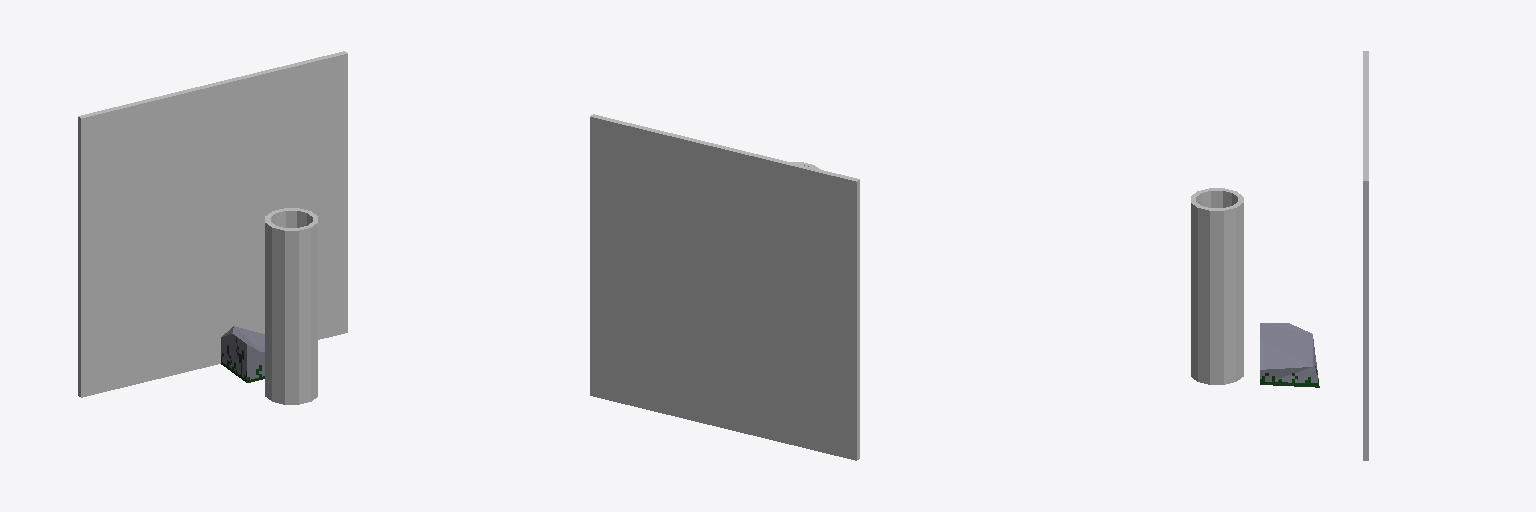
3 views of the same model, side by side, from view 1: azimuth 30°, elevation 25°; view 2: azimuth 150°, elevation 25°; view 3: azimuth 270°, elevation 25° (orthographic).
Parts seen in each view (by area): view 1: cube, tube, cuboid; view 2: cube; view 3: tube, cuboid, cube.
Part boxes in pixels (left/top/right/bottom): cube: left=78, top=51, right=347, bottom=397; tube: left=265, top=208, right=317, bottom=404; cuboid: left=221, top=326, right=264, bottom=382; cube: left=590, top=114, right=859, bottom=460; tube: left=1191, top=188, right=1243, bottom=384; cuboid: left=1260, top=323, right=1319, bottom=387; cube: left=1363, top=51, right=1368, bottom=460.
Bounding box in the file's own units: 5.81 × 5.81 × 3.38.
Materials: 3 (1 with a texture image).